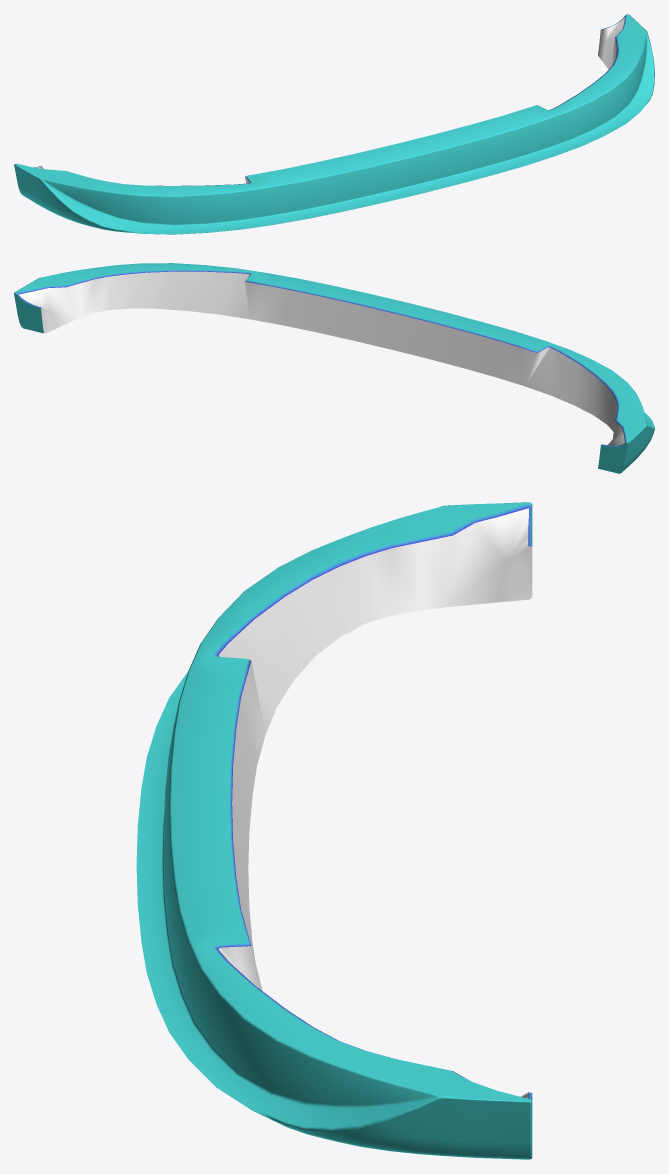
The model's file is Car_Mini_CountrymanJCW_2017_Splitter_SetD_AltH.fbx.
The picture shows the model from 3 angles, top to bottom: view 1: azimuth 30°, elevation 25°; view 2: azimuth 150°, elevation 25°; view 3: azimuth 270°, elevation 25°; orthographic projection. The views are drawn at different scales.
Visible parts, largest first — view 1: Splitter 6; view 2: Splitter 6; view 3: Splitter 6.
Part boxes in pixels (x1=…): Splitter 6: x1=14, y1=14, x2=654, y2=234; Splitter 6: x1=14, y1=263, x2=654, y2=473; Splitter 6: x1=136, y1=502, x2=532, y2=1159.
Size of the model in its own units: 1.81 by 0.0966 by 0.5038.
